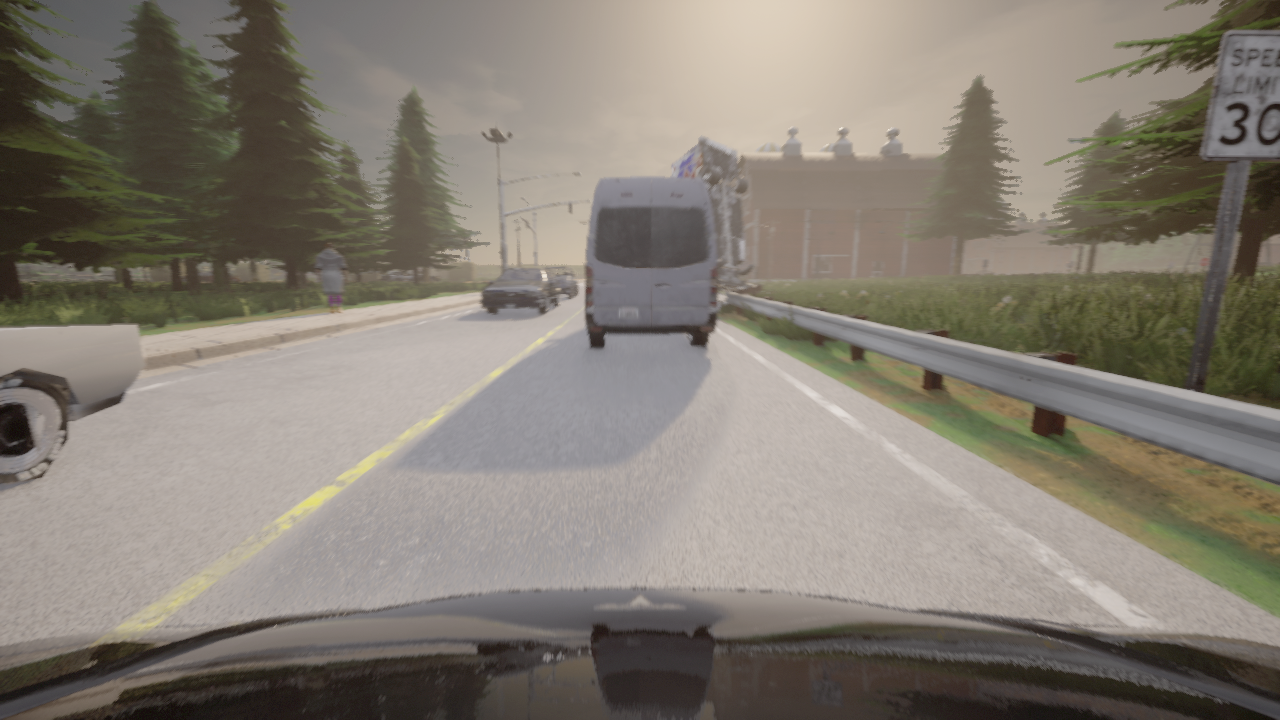cyclist: (0, 588, 1279, 719), (0, 324, 144, 483), (584, 177, 717, 346), (671, 136, 754, 289), (480, 268, 561, 313), (545, 265, 577, 299), (380, 270, 440, 281), (182, 271, 239, 281), (1004, 270, 1025, 275), (977, 270, 997, 275), (1049, 272, 1062, 273)
pedestrian: (315, 243, 347, 313), (754, 266, 758, 279), (404, 273, 406, 281)
